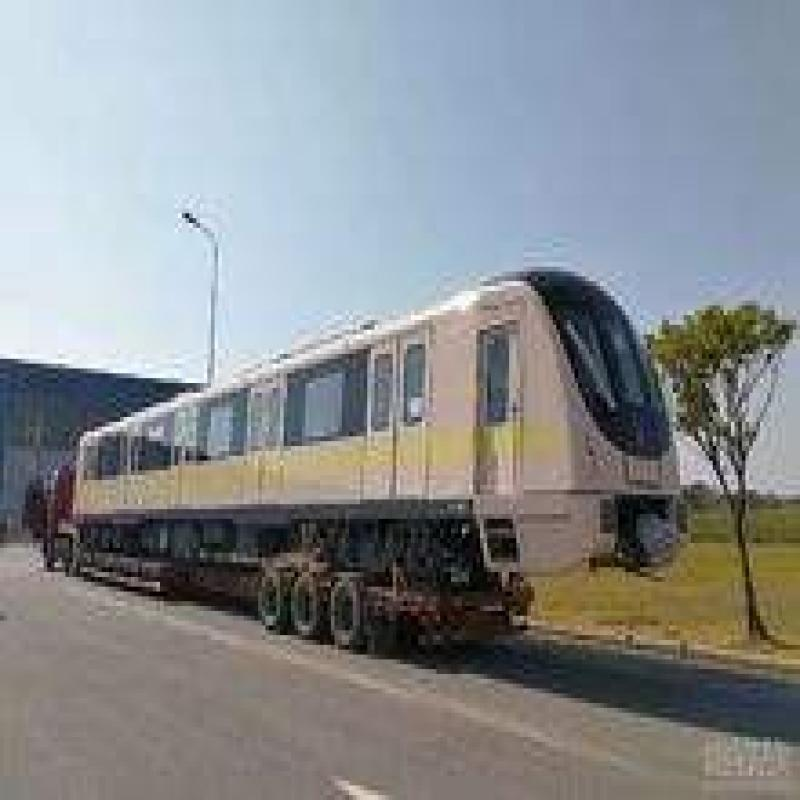train: (74, 277, 681, 641)
